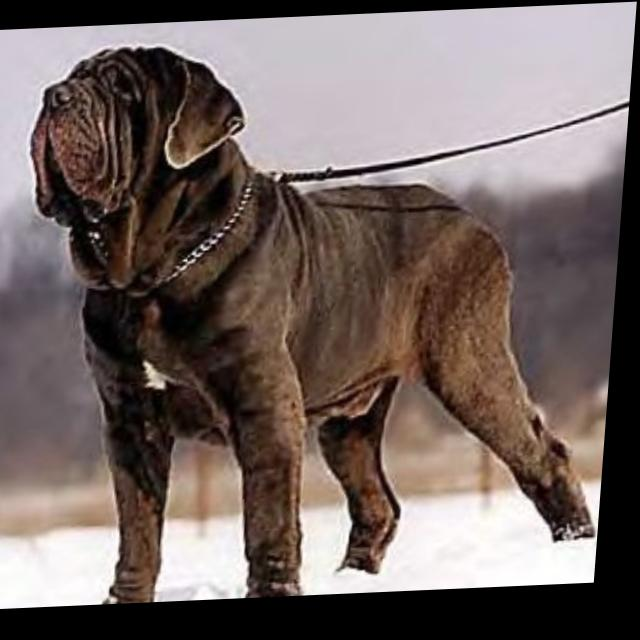mastino_napoletano: (5, 26, 638, 610)
